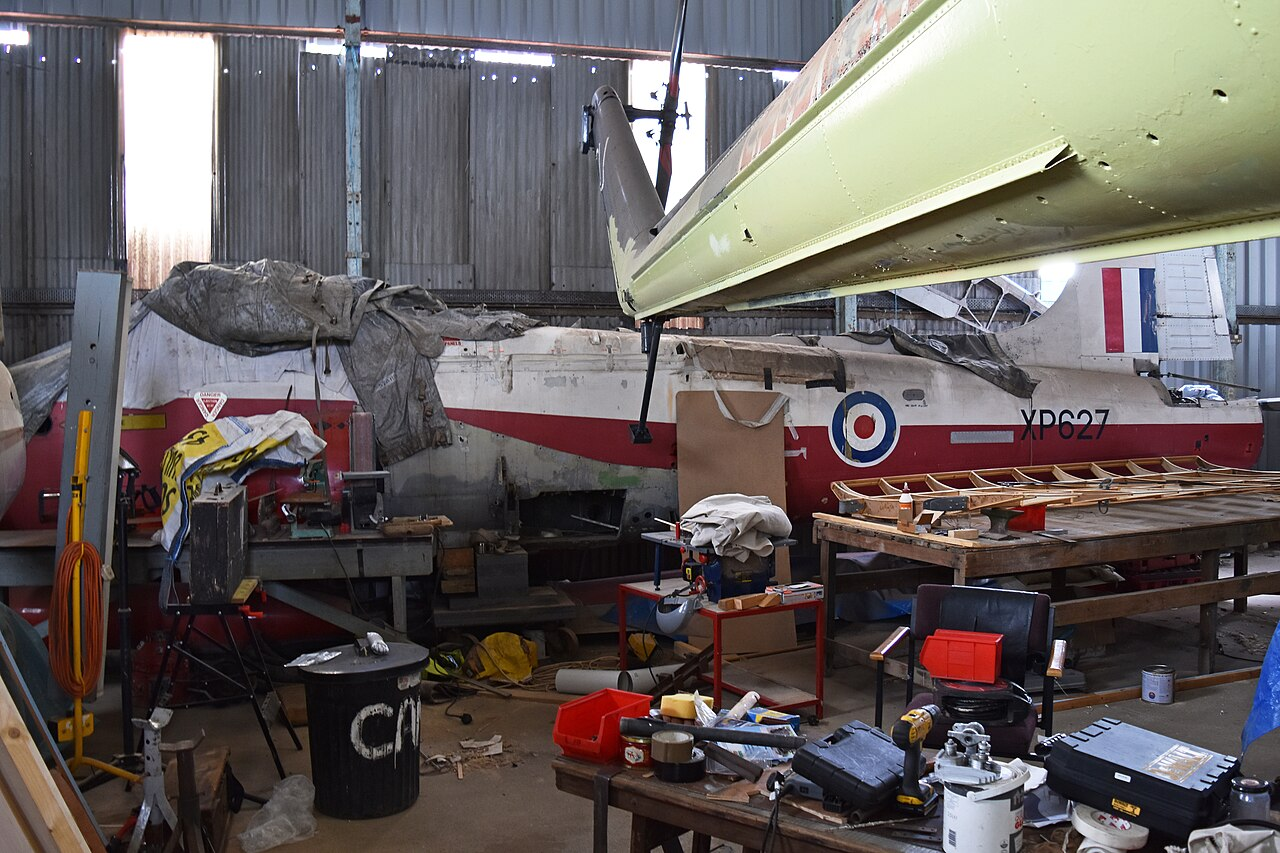aircraft: (13, 256, 1267, 597)
